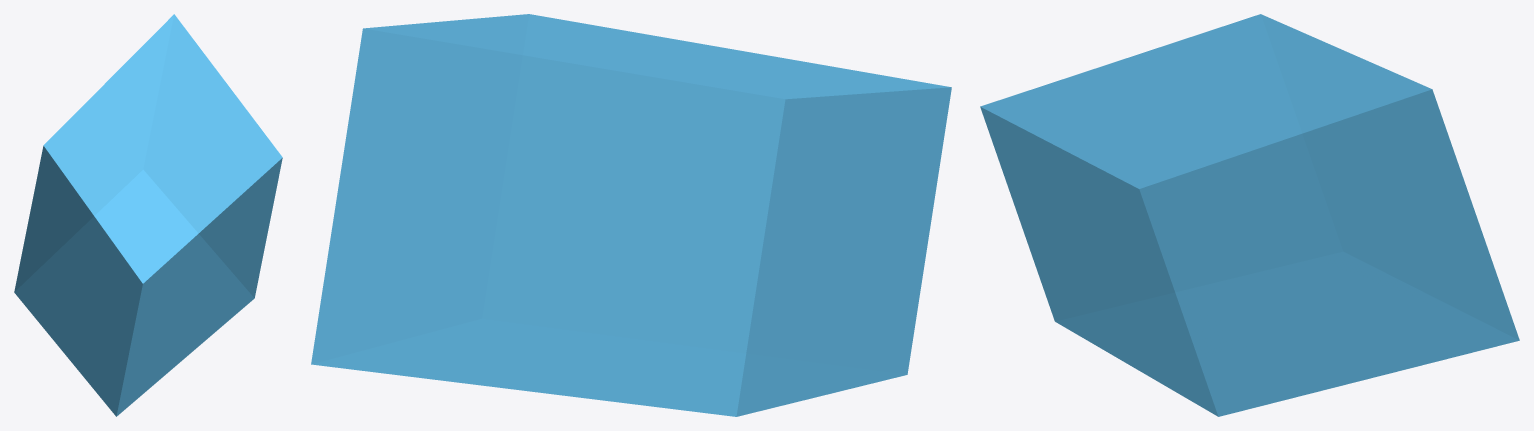
File: Event_421556567_HErechit_74.fbx
The picture shows the model from 3 angles, left to right: view 1: azimuth 30°, elevation 25°; view 2: azimuth 150°, elevation 25°; view 3: azimuth 270°, elevation 25°; orthographic projection. The views are drawn at different scales.
Visible parts, largest first — view 1: Model; view 2: Model; view 3: Model.
Boxes of the visible parts, <box> form: Model: <box>14,14,282,416</box>; Model: <box>311,14,951,416</box>; Model: <box>980,14,1519,416</box>.
Size of the model in its own units: 0.6318 by 0.7944 by 1.07.
